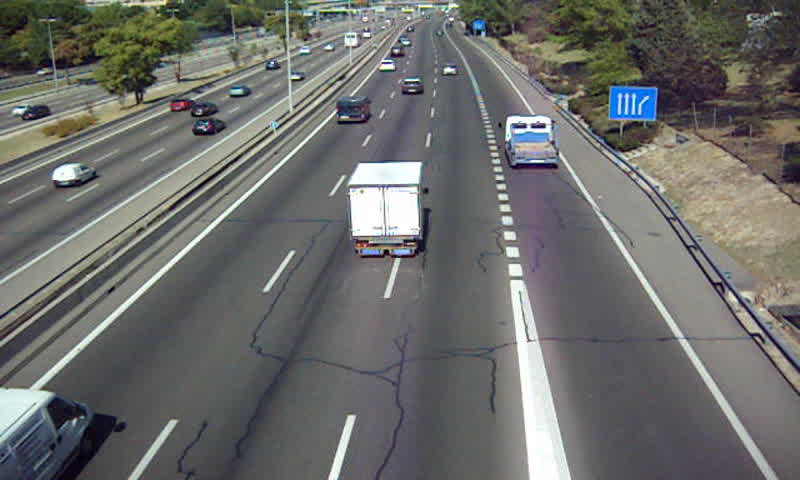car: (400, 77, 425, 98), (378, 58, 396, 74), (442, 62, 458, 75)
small-truck: (348, 160, 426, 260), (505, 114, 558, 168)
van: (335, 97, 370, 123)
